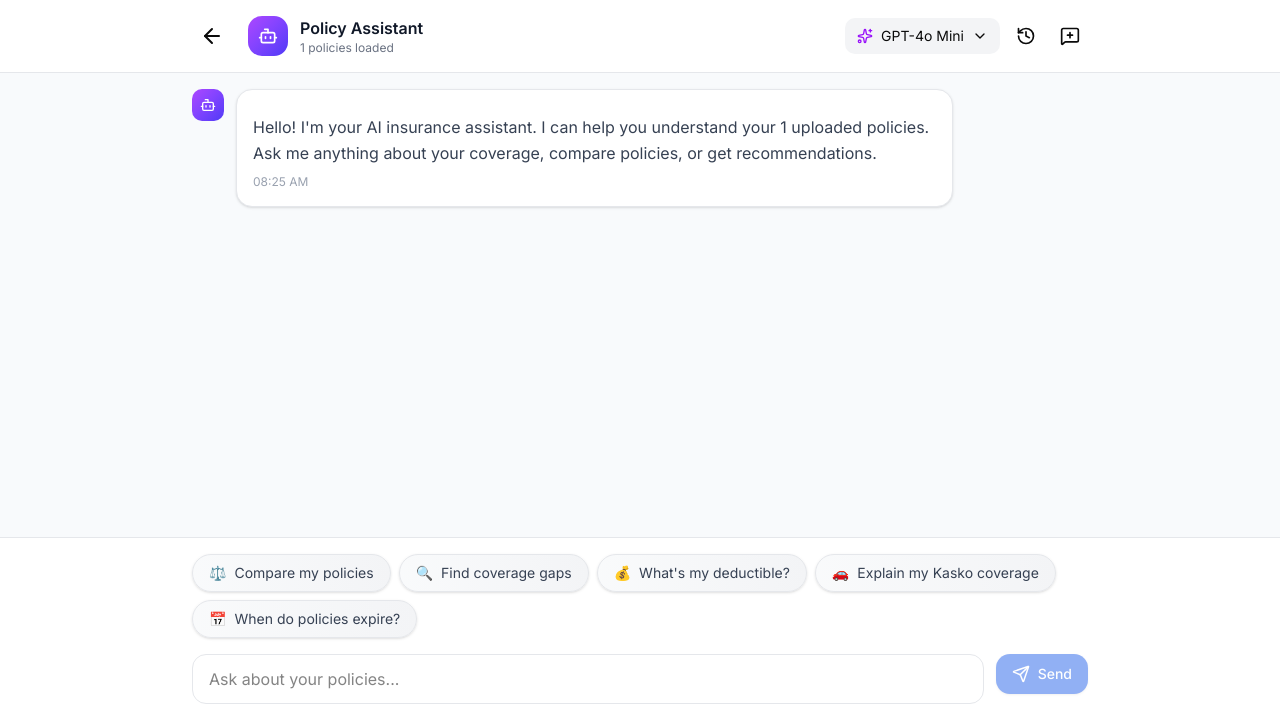
Test: PolicyChat › error handling › shows error message on fetch failure
Type "Test question" into the field with placeholder "Ask about your policies..." at (588, 679), box [192,654,984,704]
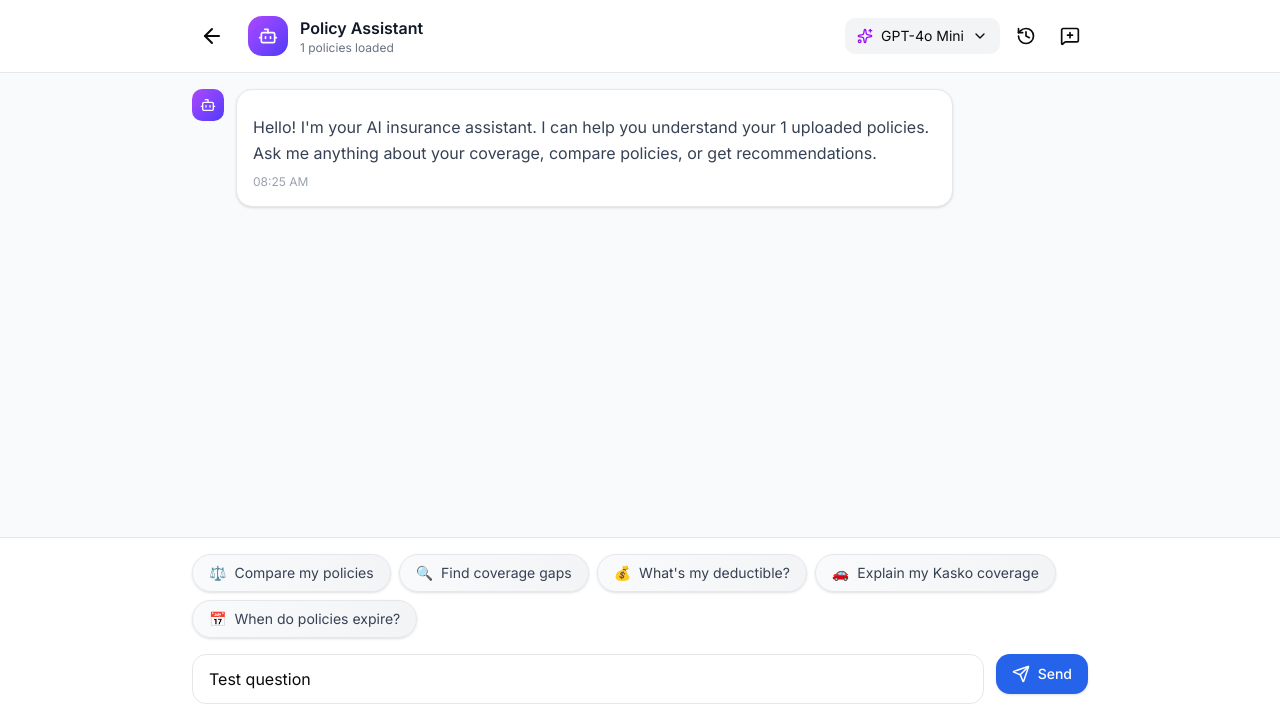
Click the button "Send" at (1042, 674), box [996,654,1088,694]
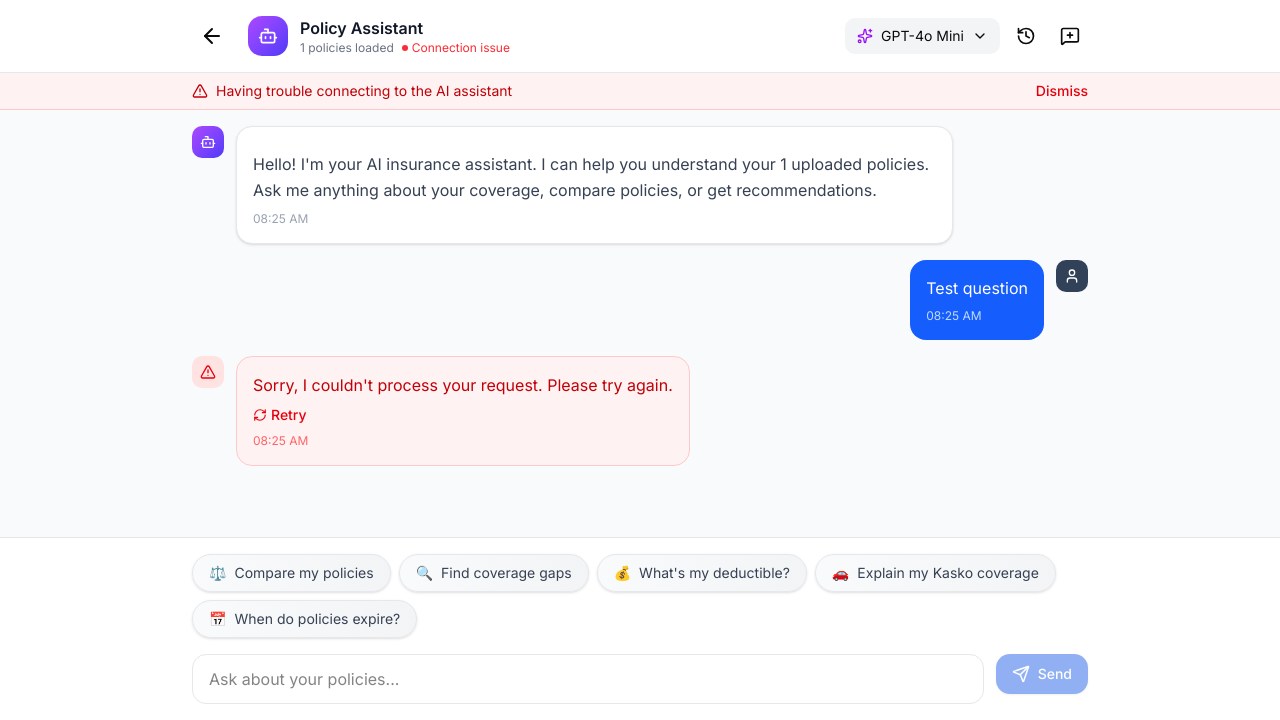
Check: the text "Sorry, I couldn't process your request. Please try again." is shown, box [253,373,673,397]
